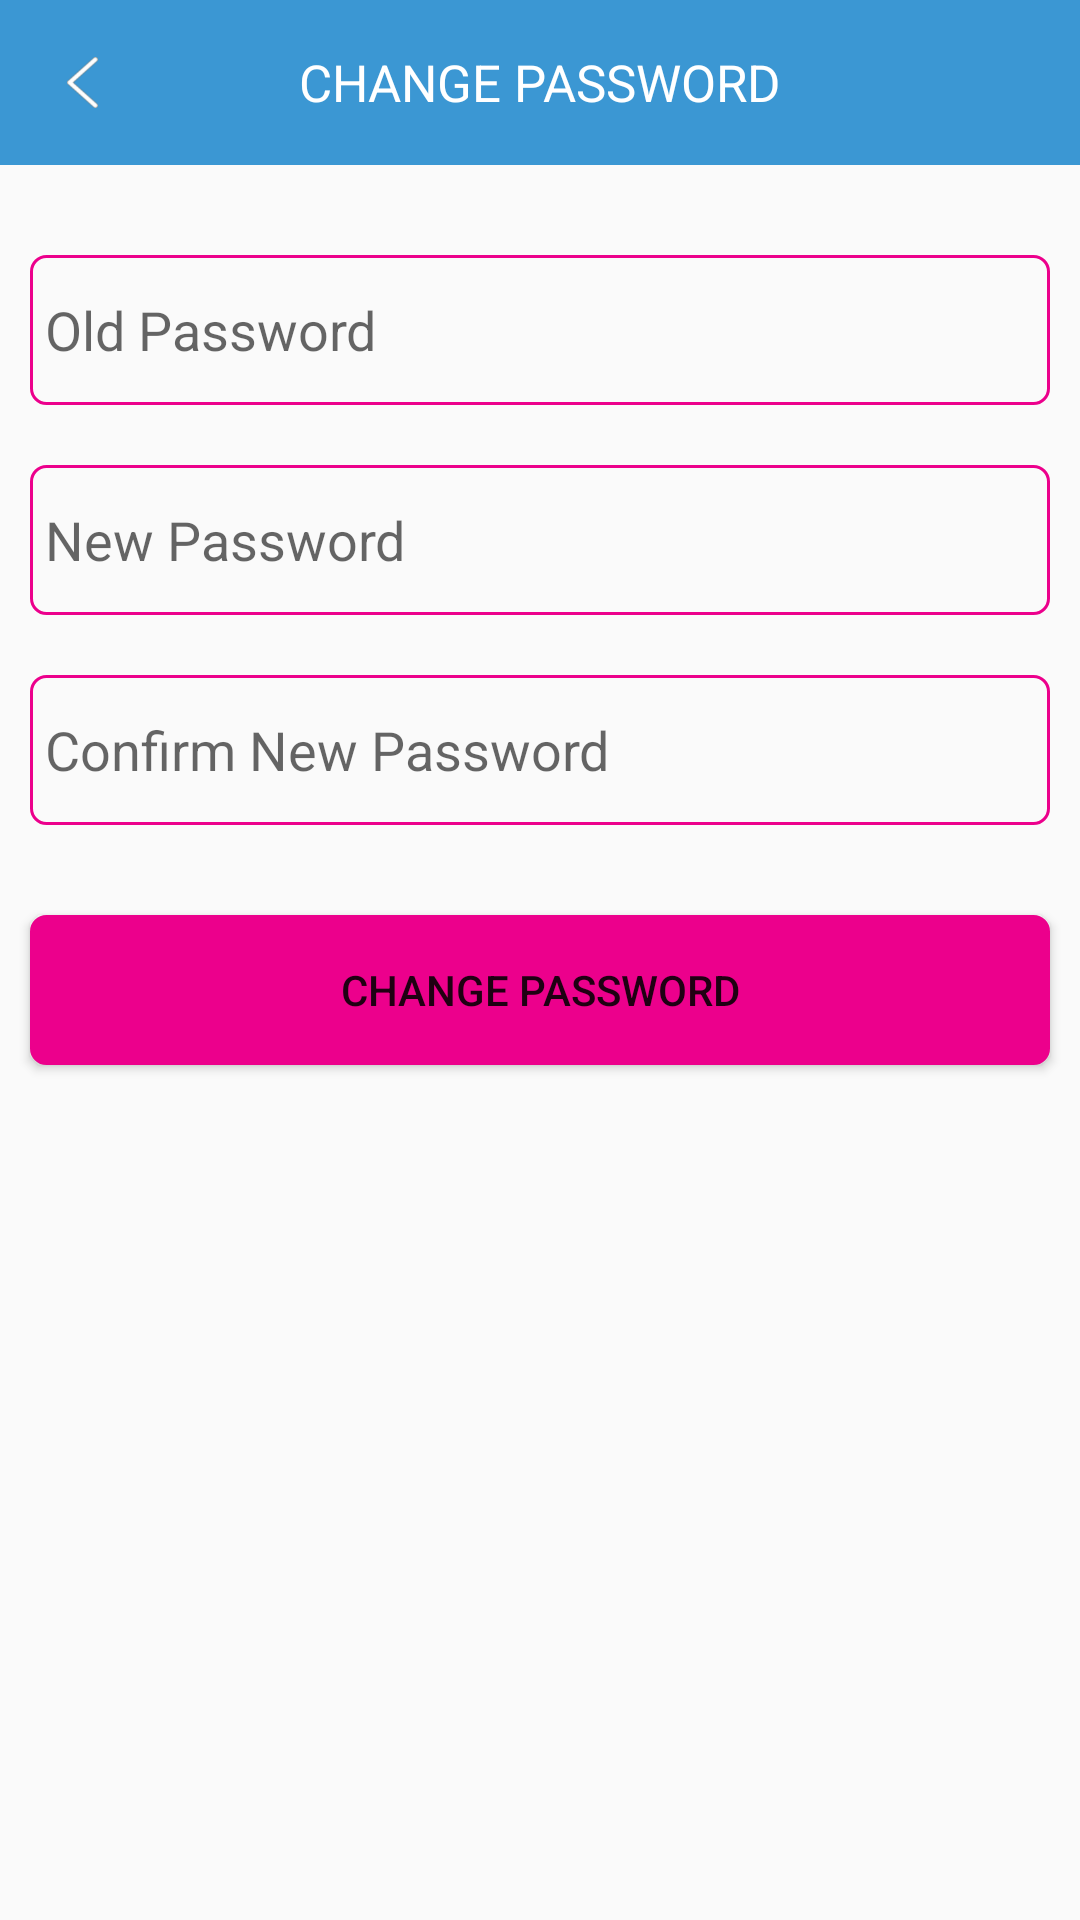

Where to tap for icons on this 1080x1920 app screen, as [x,y]:
arrow: [82,82]
